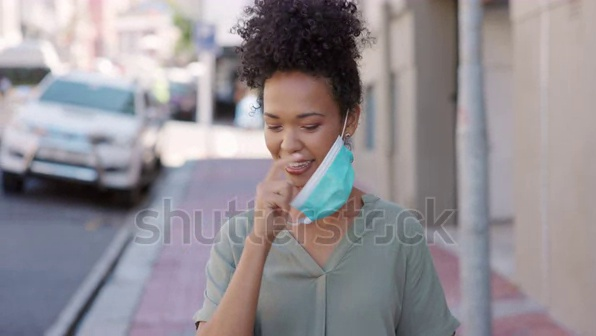No Mask: (264, 140, 337, 184)
